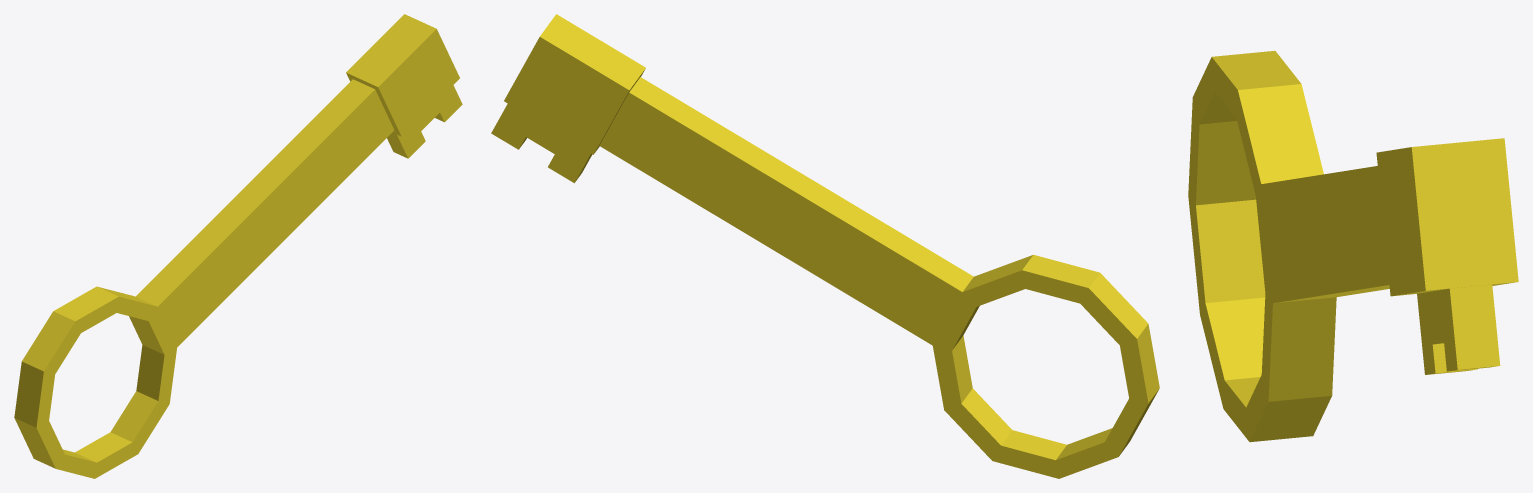
The model's file is ProcessPipeline.fbx.
3 renders of one model, left to right at view 1: azimuth 30°, elevation 25°; view 2: azimuth 150°, elevation 25°; view 3: azimuth 270°, elevation 25°, orthographic. The views are drawn at different scales.
Parts seen in each view (by area): view 1: Circle; view 2: Circle; view 3: Circle.
Boxes of the visible parts, box(x1,y1,x2,y2) form: Circle: box(14, 14, 462, 478); Circle: box(491, 14, 1159, 478); Circle: box(1188, 50, 1518, 442).
Bounding box in the file's own units: 59.6 × 36.56 × 17.06.
